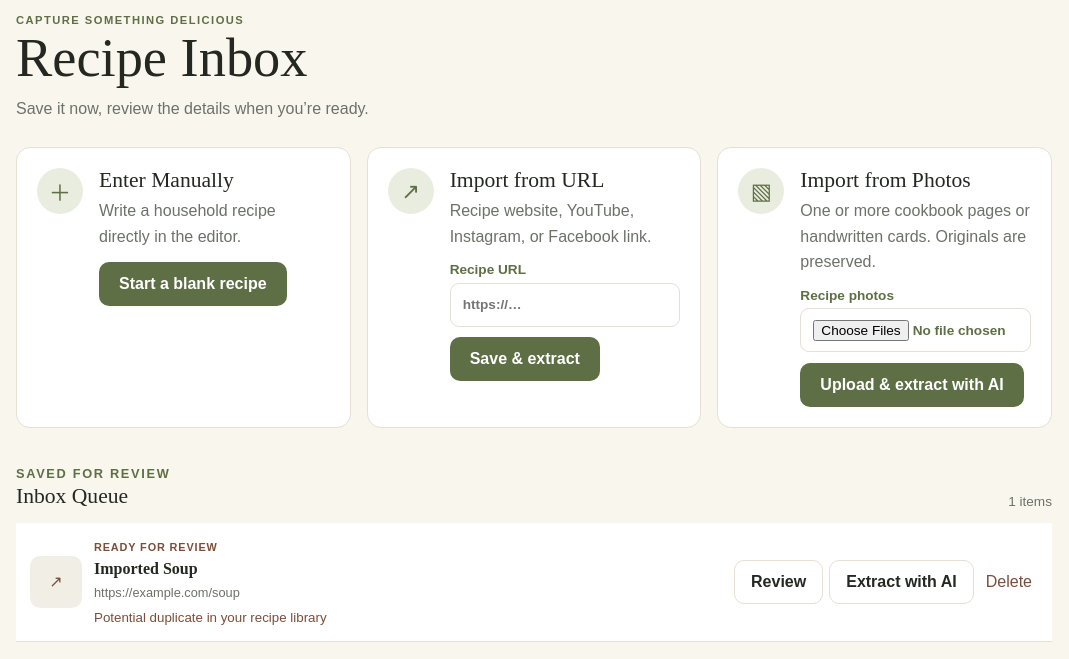
Test case: Inbox › shows extraction progress and prevents duplicate extraction requests
Click the button "Extract with AI" at (901, 582), box [829,560,974,604]
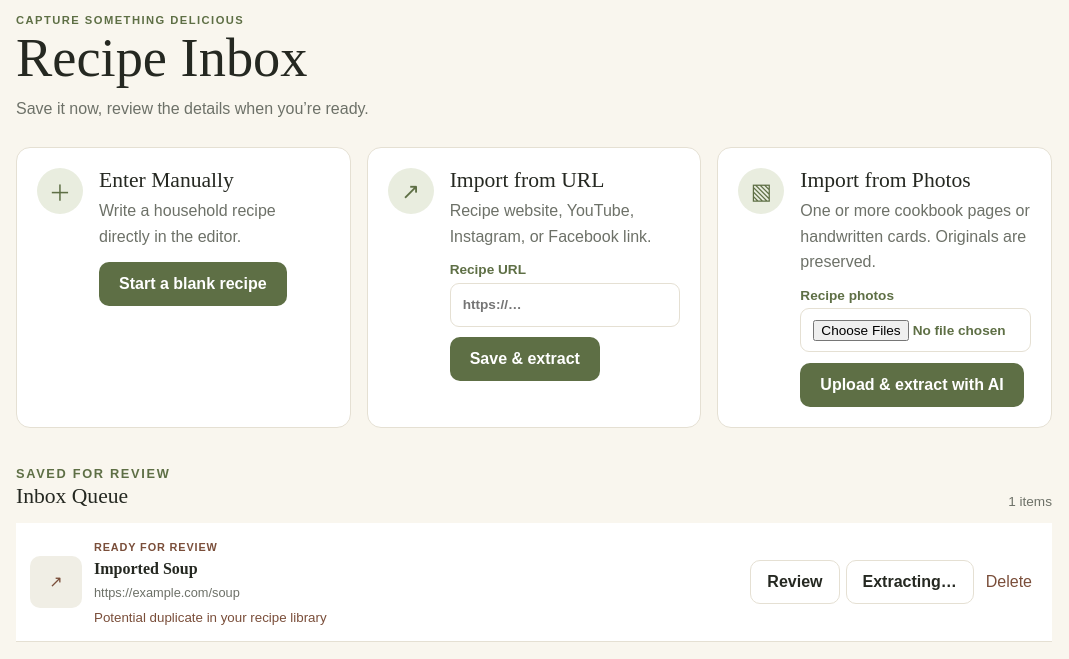
Result: the button "Extracting…" is disabled at [846,560,974,604]
